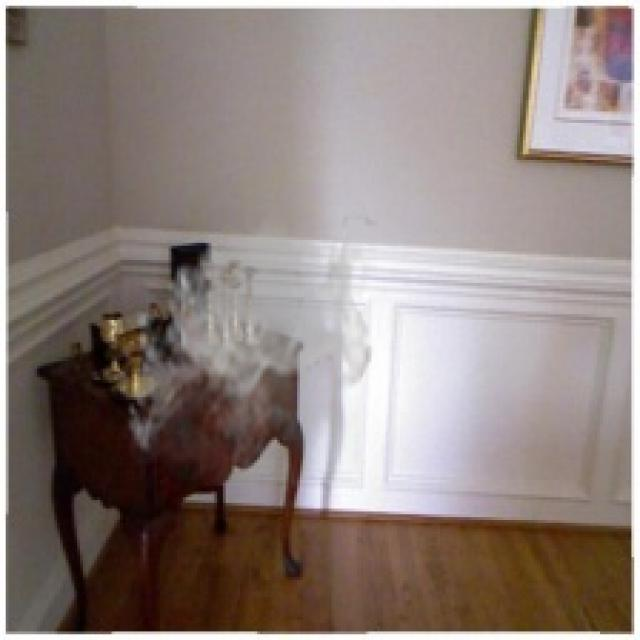smoke: (120, 208, 377, 486)
